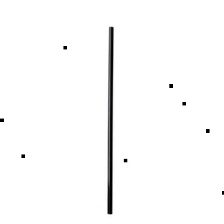drinking_straw: (101, 20, 118, 219)
